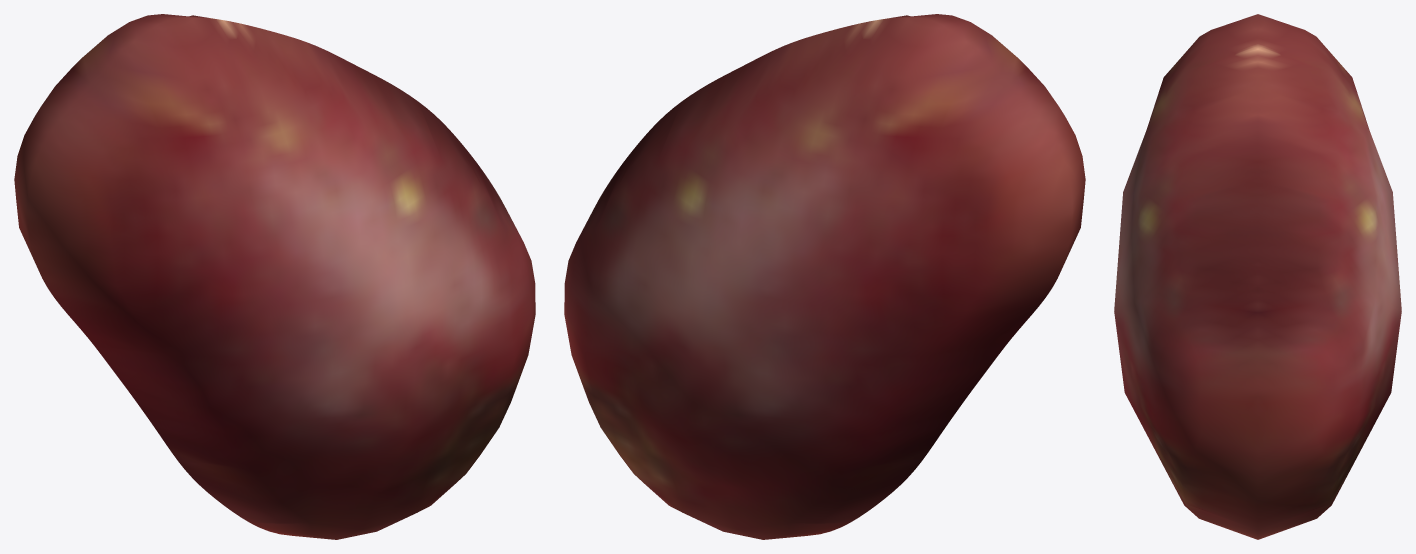
File: Sobremaduro.glb
3 views of the same model, side by side, from view 1: azimuth 30°, elevation 25°; view 2: azimuth 150°, elevation 25°; view 3: azimuth 270°, elevation 25° (orthographic). The views are drawn at different scales.
Parts seen in each view (by area): view 1: mm_frame.003; view 2: mm_frame.003; view 3: mm_frame.003.
Part boxes in pixels (x1=…): mm_frame.003: x1=14, y1=14, x2=535, y2=539; mm_frame.003: x1=564, y1=14, x2=1085, y2=539; mm_frame.003: x1=1114, y1=14, x2=1401, y2=539.
Size of the model in its own units: 0.6052 by 0.6443 by 0.3803.
Materials: 1 (1 with a texture image).
